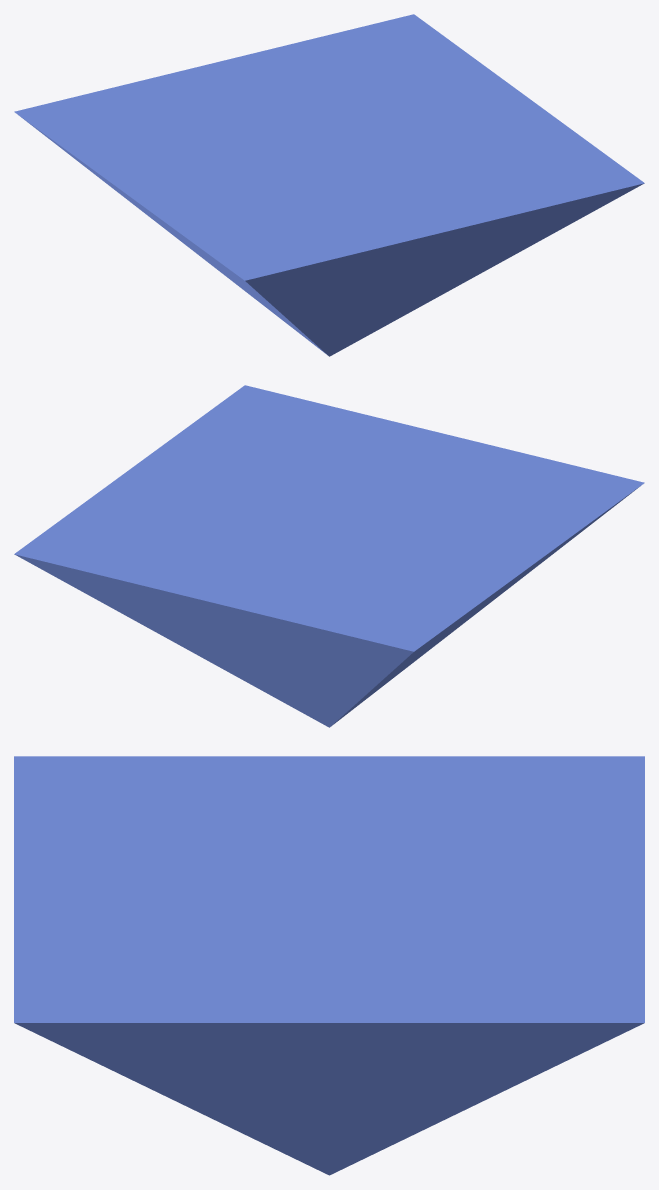
File: blueGround1.fbx
3 views of the same model, one above another, from view 1: azimuth 30°, elevation 25°; view 2: azimuth 150°, elevation 25°; view 3: azimuth 270°, elevation 25° (orthographic). The views are drawn at different scales.
Parts seen in each view (by area): view 1: blueGround; view 2: blueGround; view 3: blueGround.
Part boxes in pixels (<box>): blueGround: <box>14,14,644,356</box>; blueGround: <box>14,385,644,727</box>; blueGround: <box>14,756,644,1175</box>.
Size of the model in its own units: 200 by 100 by 200.
